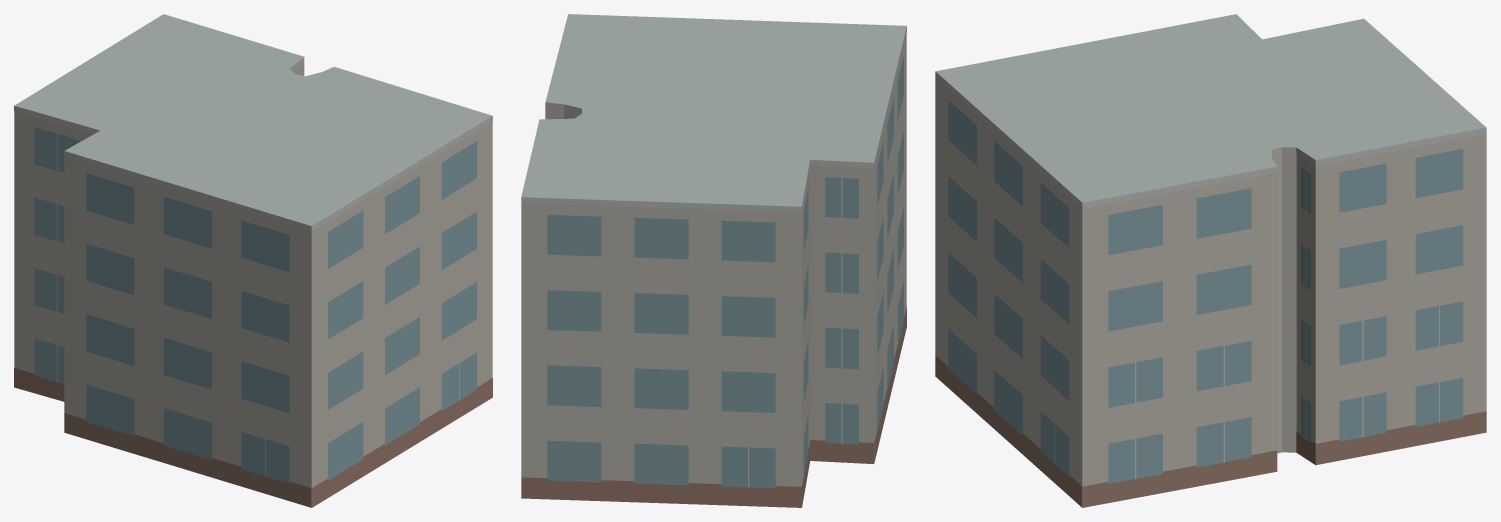
The model's file is survey-upis-32610828.glb.
The picture shows the model from 3 angles, left to right: view 1: azimuth 30°, elevation 25°; view 2: azimuth 150°, elevation 25°; view 3: azimuth 270°, elevation 25°; orthographic projection. The views are drawn at different scales.
Parts seen in each view (by area): view 1: survey-upis-32610828.tmp; view 2: survey-upis-32610828.tmp; view 3: survey-upis-32610828.tmp.
Part boxes in pixels (<box>): survey-upis-32610828.tmp: <box>14,14,492,507</box>; survey-upis-32610828.tmp: <box>521,14,906,507</box>; survey-upis-32610828.tmp: <box>935,14,1486,507</box>.
Bounding box in the file's own units: 16.07 × 12.1 × 19.82.
